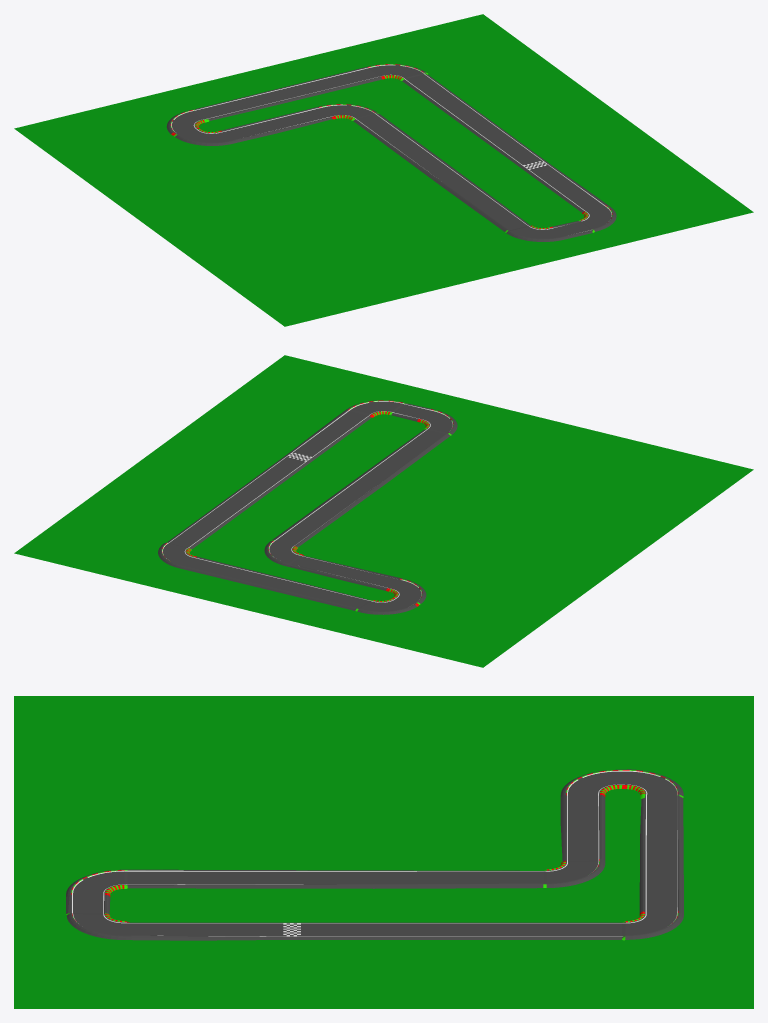
Rendered from Track_1.fbx.
3 views of the same model, one above another, from view 1: azimuth 30°, elevation 25°; view 2: azimuth 150°, elevation 25°; view 3: azimuth 270°, elevation 25° (orthographic). The views are drawn at different scales.
Visible parts, largest first — view 1: Plane, Track_1; view 2: Plane, Track_1; view 3: Plane, Track_1.
Boxes of the visible parts, bbox=[...] form: Plane: bbox=[14, 14, 753, 326]; Track_1: bbox=[166, 64, 616, 241]; Plane: bbox=[14, 355, 753, 667]; Track_1: bbox=[158, 400, 457, 614]; Plane: bbox=[14, 696, 753, 1008]; Track_1: bbox=[66, 769, 683, 940].
Size of the model in its own units: 136 by 0.7027 by 136.
